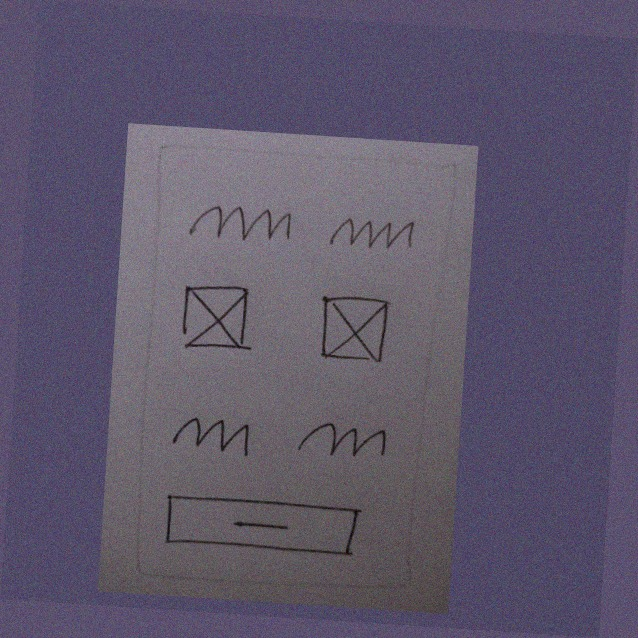button: (158, 488, 363, 560)
image: (311, 288, 395, 370), (175, 279, 261, 356)
text: (182, 196, 296, 254), (288, 410, 393, 468), (165, 405, 257, 464), (321, 210, 419, 261)
